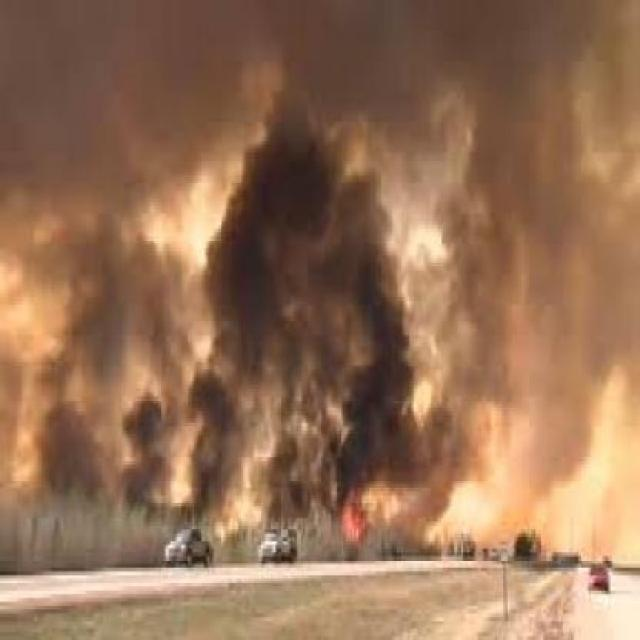Fire: (314, 471, 391, 577)
Smoke: (0, 0, 637, 387)
